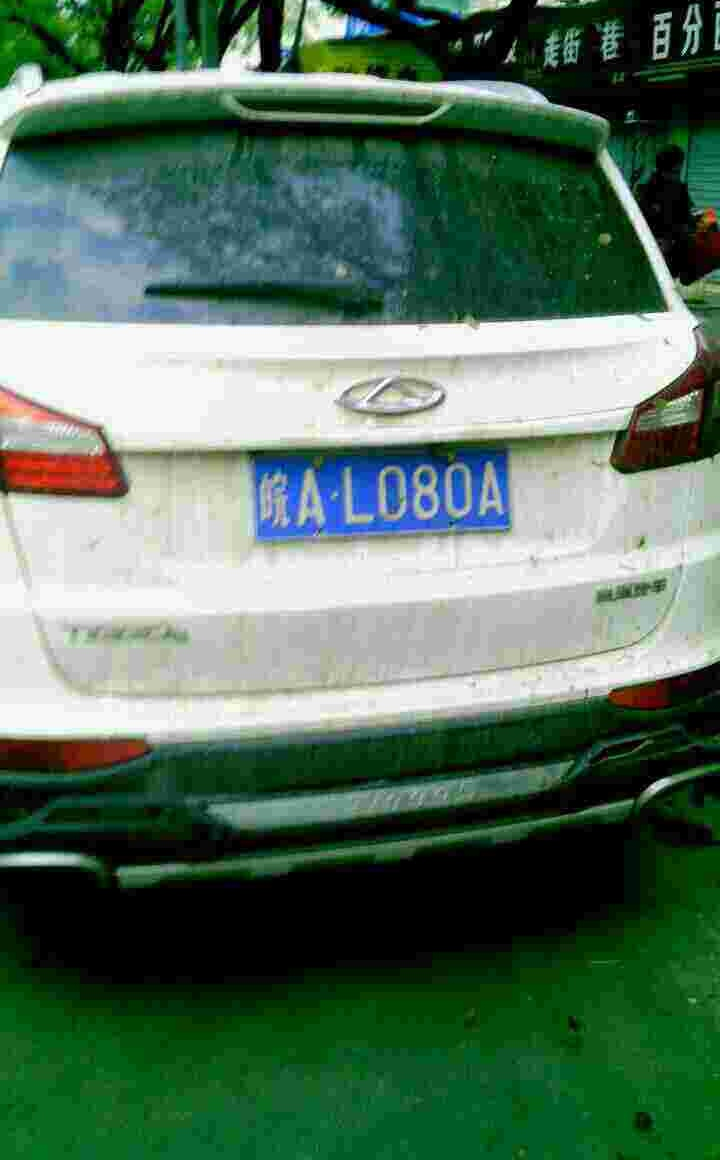car: (234, 443, 532, 529)
